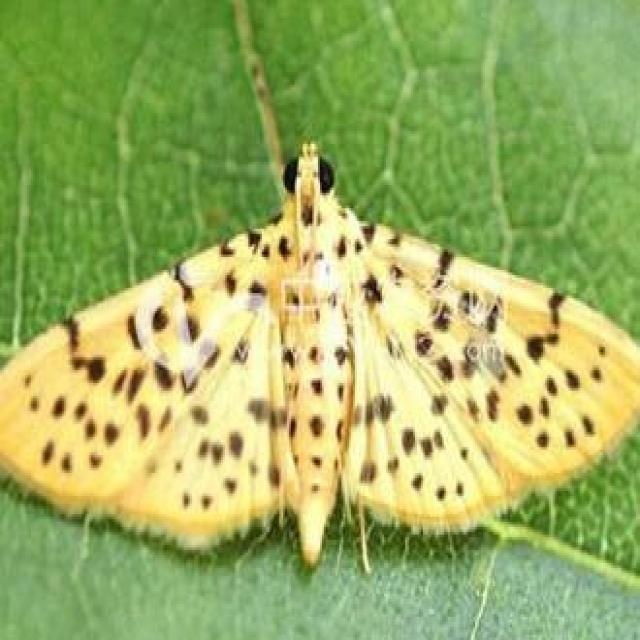peach borer: (1, 139, 639, 578)
